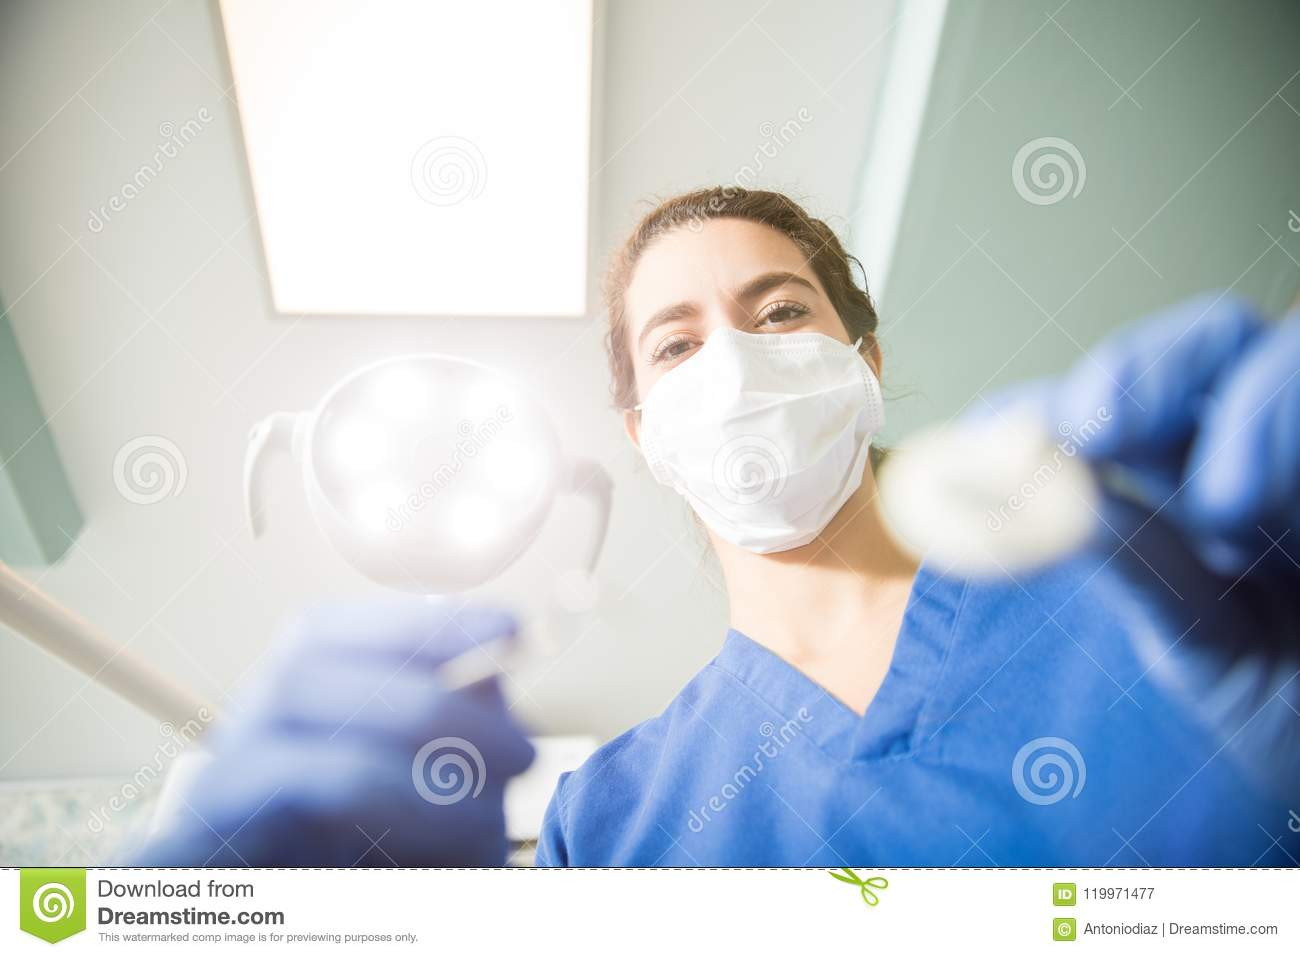mask: (635, 333, 898, 549)
